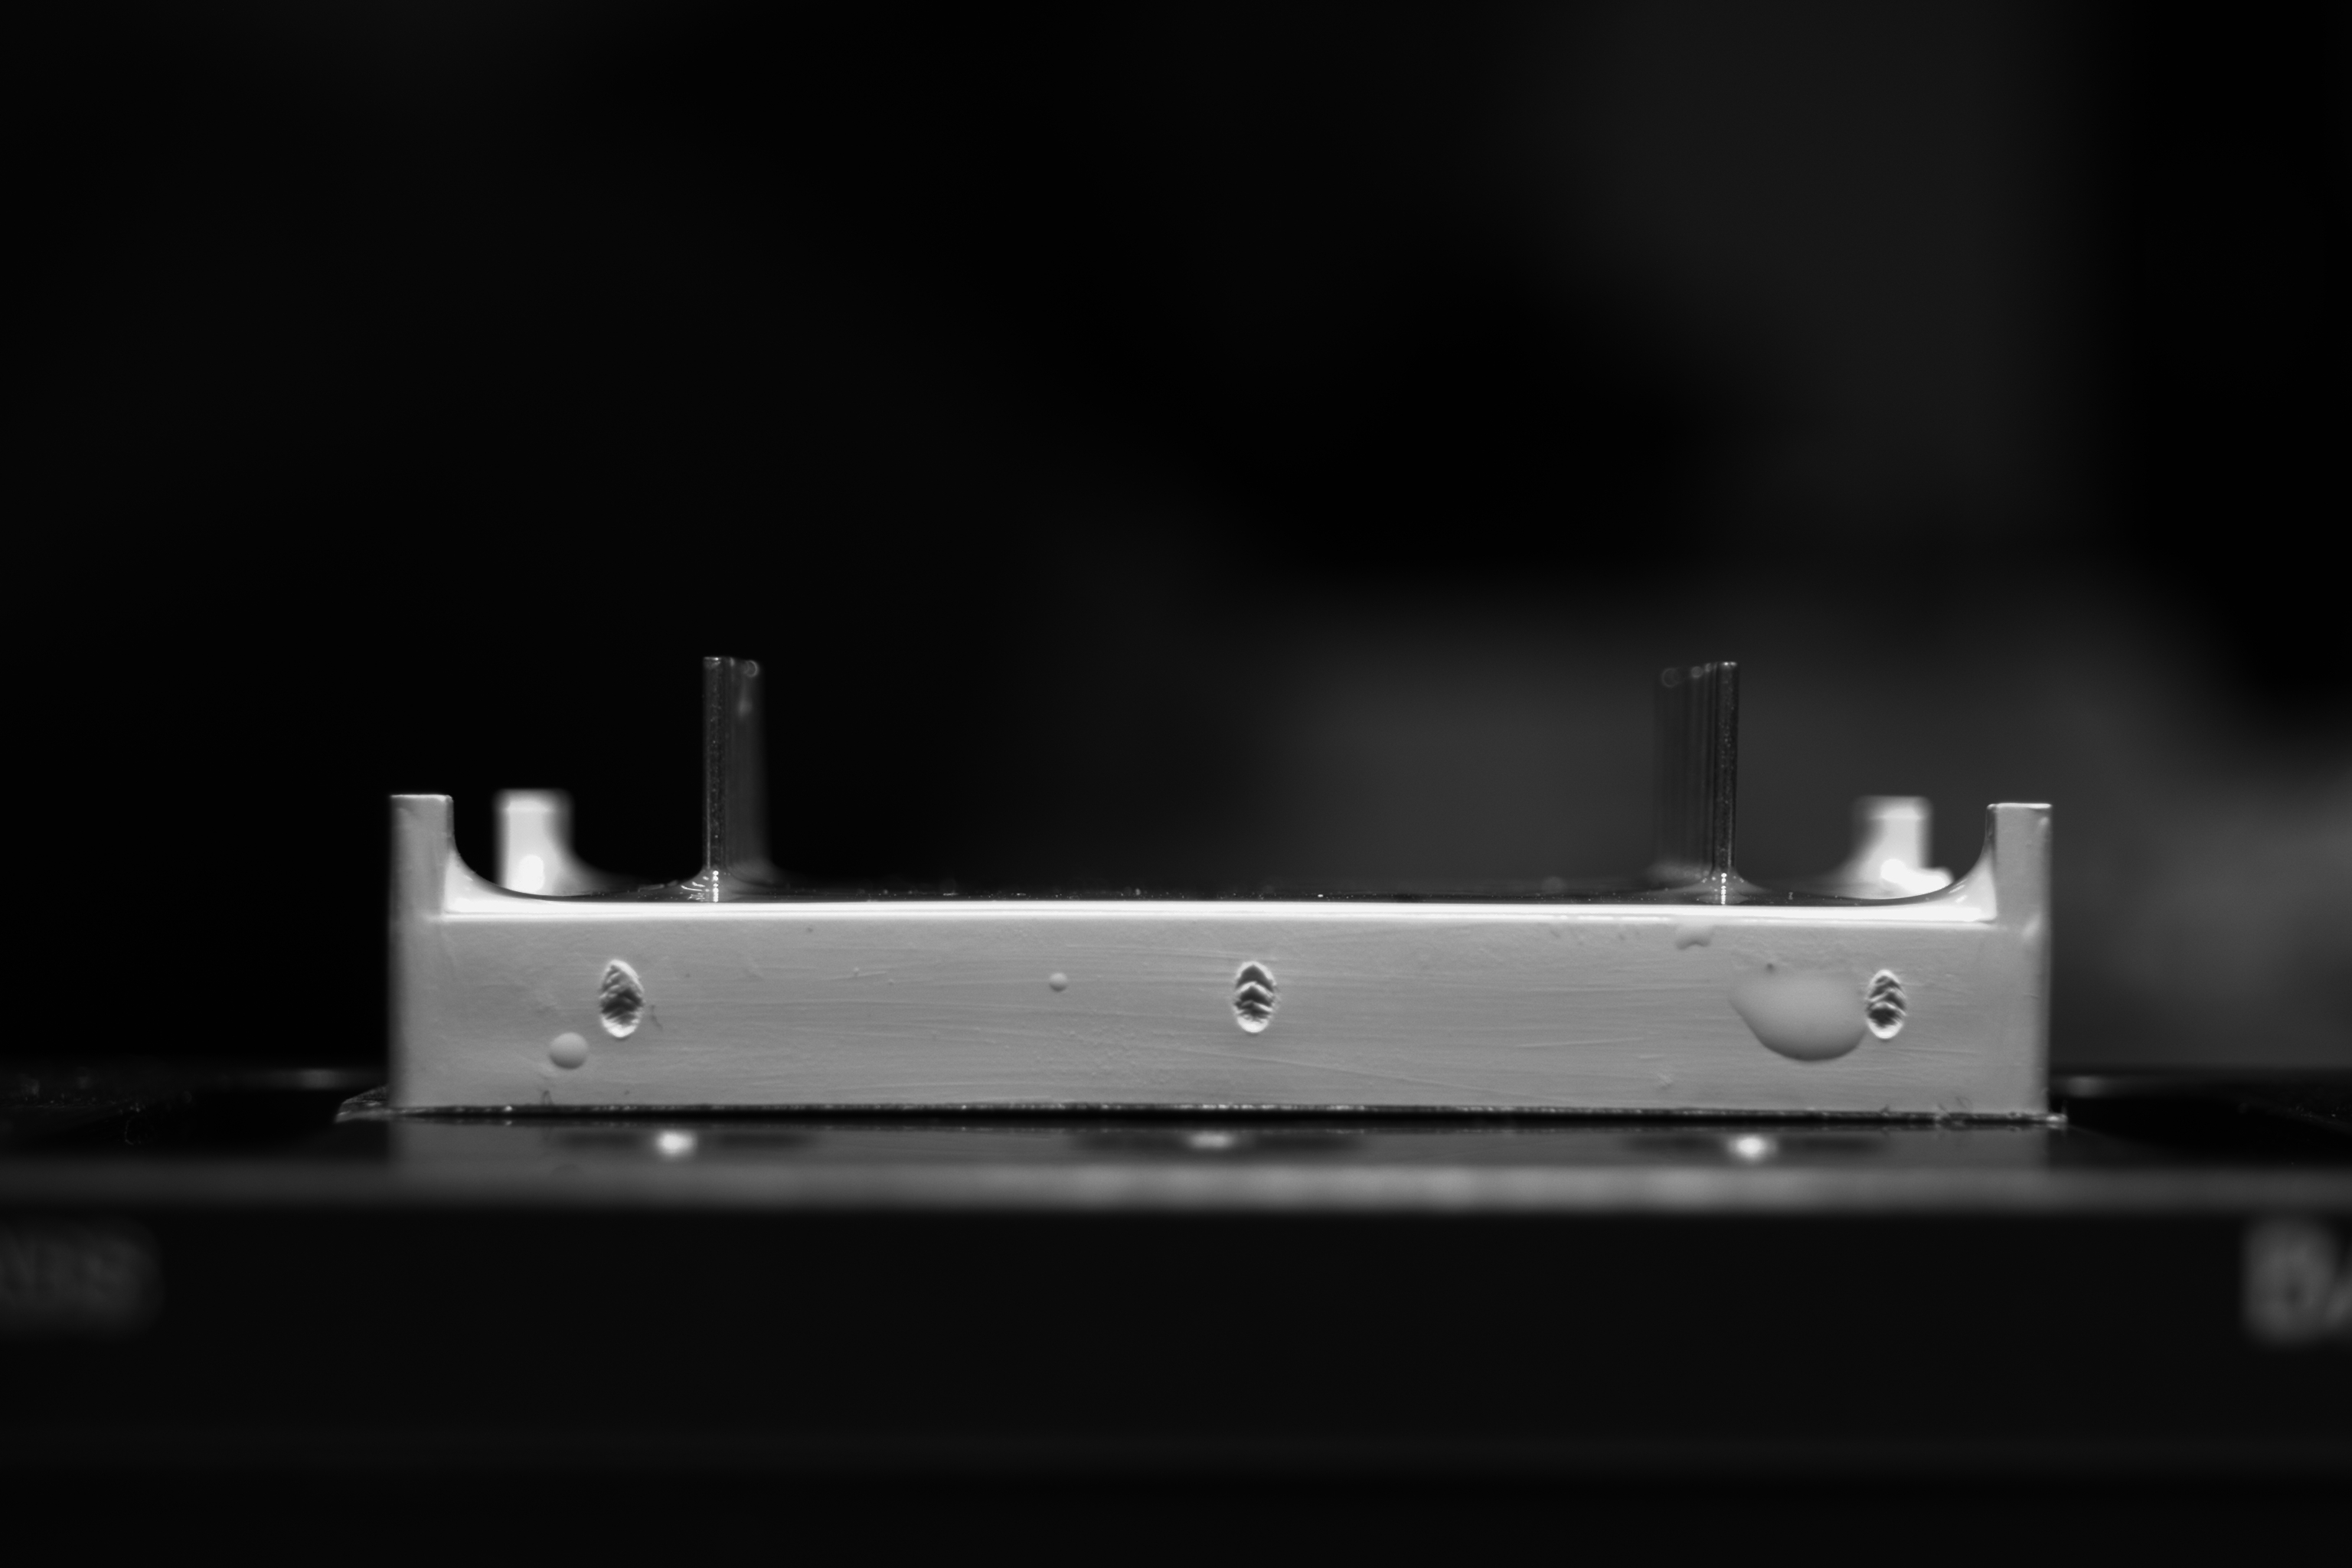glue: (1718, 968, 1867, 1066), (1662, 919, 1722, 954), (546, 1031, 591, 1071), (1041, 966, 1076, 996)
injection_hole: (1228, 955, 1281, 1039), (598, 957, 647, 1041), (1865, 968, 1909, 1043)
